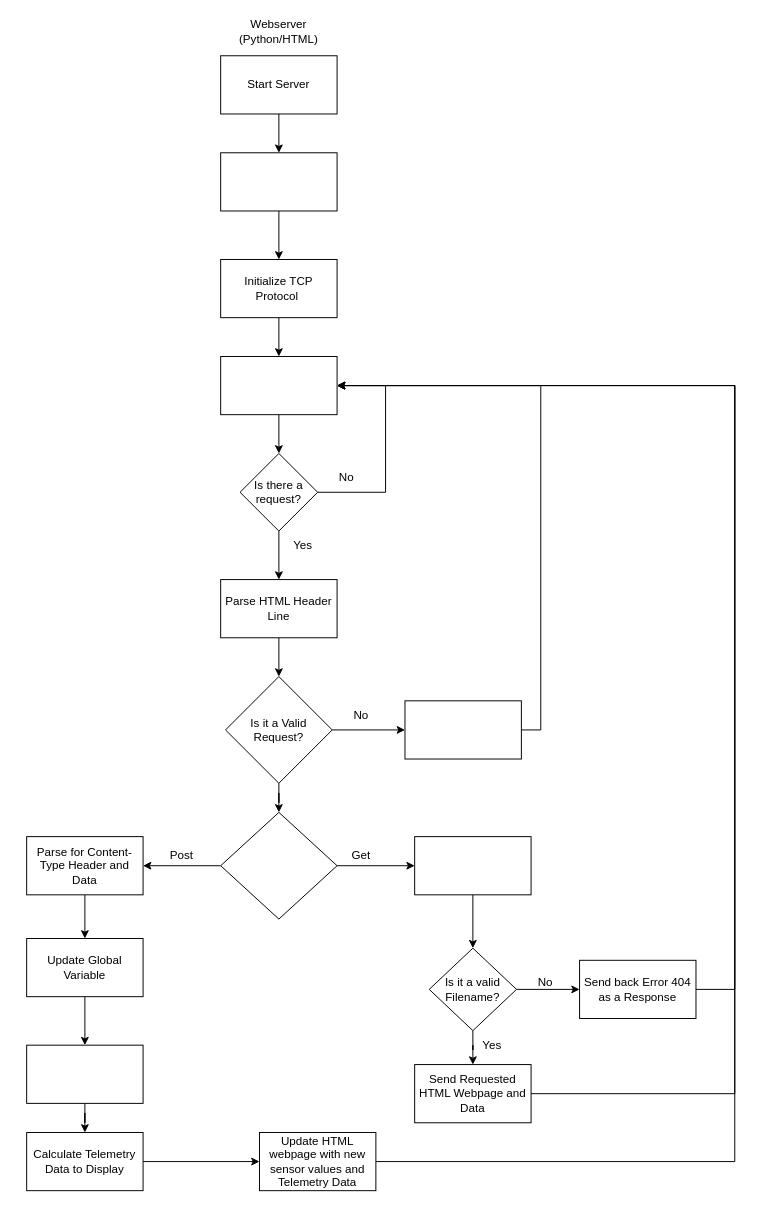
Image size: 760x1226. Some labels were removed from this diagram. Here are the shapes that lost their labels. From the top down, the box of each, then its label:
(220, 152, 337, 211): Connect to Local Wifi Network
(220, 356, 337, 415): Listen for Connection Requests
(404, 700, 521, 759): Send Back Error 503 Response
(220, 811, 337, 919): Is it a Post or Get Request?
(414, 836, 531, 895): Parse for Filename and Data
(26, 1044, 143, 1103): Send HTML request to Database to Update Sensor Value
